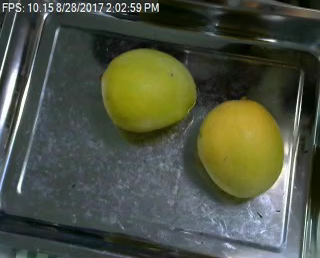Mango: (188, 90, 288, 207), (100, 39, 204, 132)
